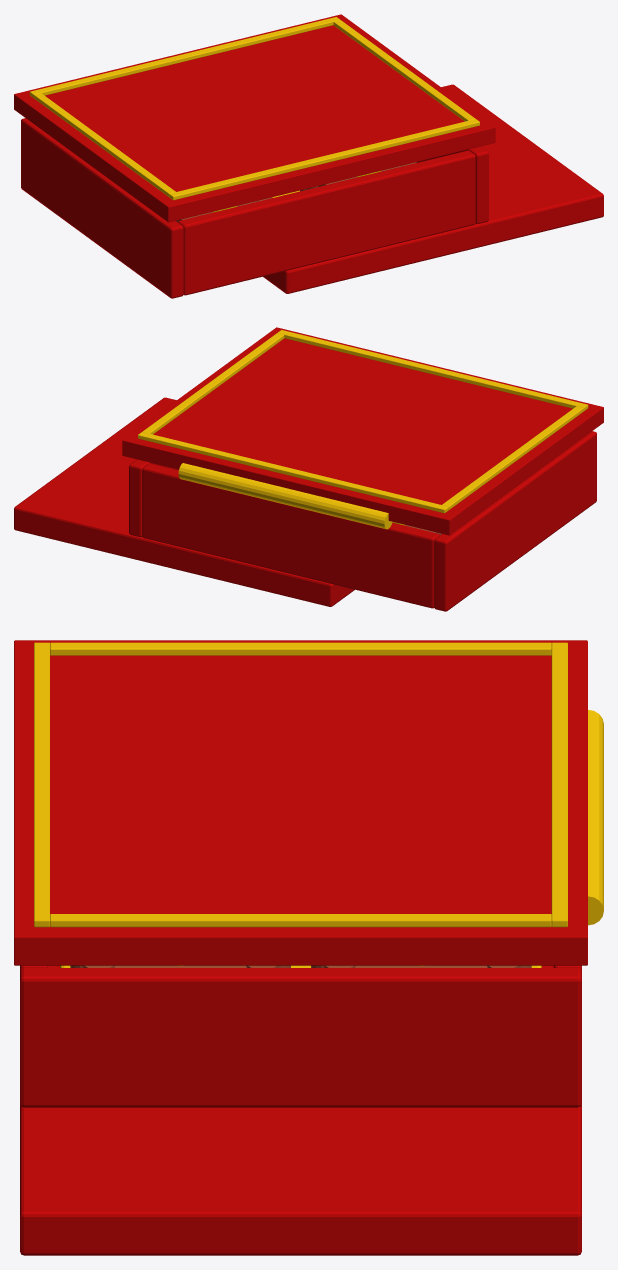
Rendered from source-edit.glb.
3 views of the same model, one above another, from view 1: azimuth 30°, elevation 25°; view 2: azimuth 150°, elevation 25°; view 3: azimuth 270°, elevation 25° (orthographic). The views are drawn at different scales.
Visible parts, largest first — view 1: Lid_Panel, End, Box_Base, Side, Gold_Trim.002, Gold_Trim.003, Gold_Trim, Gold_Trim.001, Side.001; view 2: Lid_Panel, End.001, Box_Base, Side, Hinge, Gold_Trim.003, Gold_Trim.002, Gold_Trim, Gold_Trim.001, Side.001; view 3: Lid_Panel, Box_Base, Side.001, Gold_Trim, Gold_Trim.001, Gold_Trim.003, Gold_Trim.002, Hinge.
Boxes of the visible parts, <box> form: Lid_Panel: <box>14,14,495,222</box>; End: <box>178,150,475,295</box>; Box_Base: <box>263,84,603,293</box>; Side: <box>21,118,183,298</box>; Gold_Trim.002: <box>169,119,479,200</box>; Gold_Trim.003: <box>29,17,339,97</box>; Gold_Trim: <box>34,93,175,196</box>; Gold_Trim.001: <box>333,20,475,121</box>; Side.001: <box>416,146,488,223</box>; Lid_Panel: <box>122,327,603,535</box>; End.001: <box>142,463,439,608</box>; Box_Base: <box>14,397,354,606</box>; Side: <box>434,431,596,611</box>; Hinge: <box>178,463,392,529</box>; Gold_Trim.003: <box>138,432,448,513</box>; Gold_Trim.002: <box>278,330,588,410</box>; Gold_Trim: <box>442,406,583,509</box>; Gold_Trim.001: <box>142,333,284,434</box>; Side.001: <box>129,459,178,536</box>; Lid_Panel: <box>14,640,587,965</box>; Box_Base: <box>20,965,581,1255</box>; Side.001: <box>20,968,581,1107</box>; Gold_Trim: <box>50,642,551,655</box>; Gold_Trim.001: <box>50,914,551,927</box>; Gold_Trim.003: <box>551,642,567,927</box>; Gold_Trim.002: <box>34,642,49,927</box>; Hinge: <box>588,710,603,925</box>.
Size of the model in its own units: 0.468 by 0.125 by 0.294.
